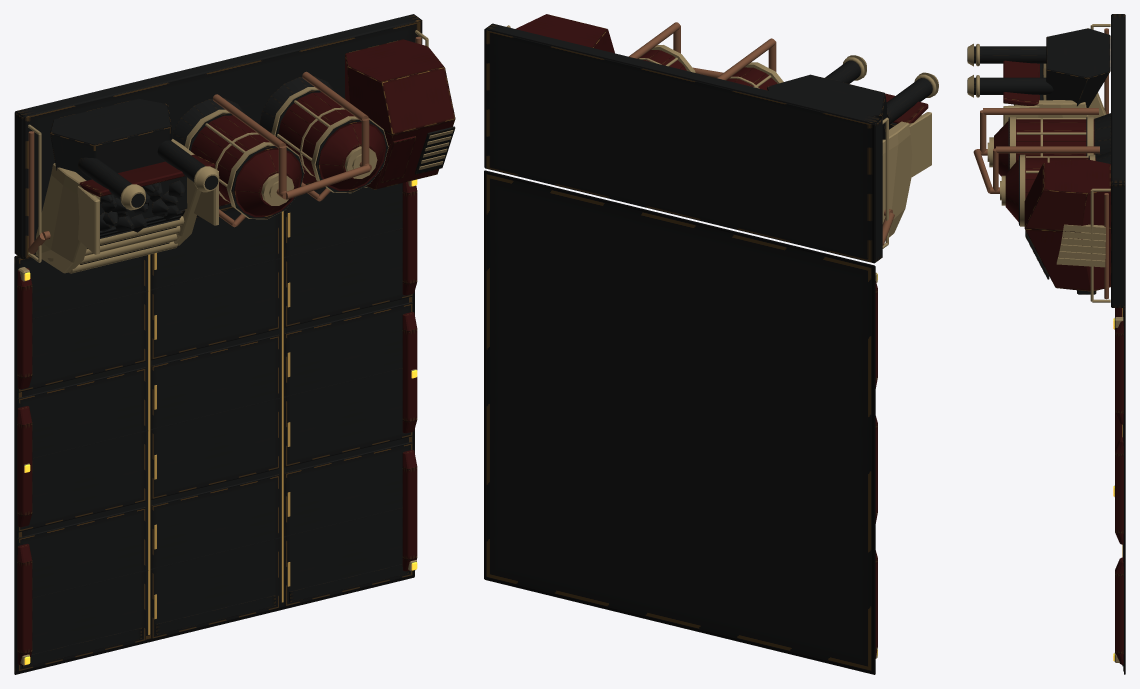
The model's file is refinery-high.glb.
3 views of the same model, side by side, from view 1: azimuth 30°, elevation 25°; view 2: azimuth 150°, elevation 25°; view 3: azimuth 270°, elevation 25° (orthographic). The views are drawn at different scales.
Parts seen in each view (by area): view 1: refinery-root / Riveted iron, refinery-root / Burgundy enamel, refinery-root / Machined brass, refinery-root / Copper feed lines, refinery-root / Ore gold / optics; view 2: refinery-root / Riveted iron, refinery-root / Machined brass, refinery-root / Burgundy enamel, refinery-root / Copper feed lines; view 3: refinery-root / Burgundy enamel, refinery-root / Riveted iron, refinery-root / Machined brass, refinery-root / Copper feed lines.
Boxes of the visible parts, x1,y1,x2,y2 form: refinery-root / Riveted iron: (14, 14, 455, 674); refinery-root / Burgundy enamel: (17, 39, 455, 665); refinery-root / Machined brass: (18, 30, 453, 665); refinery-root / Copper feed lines: (28, 36, 421, 254); refinery-root / Ore gold / optics: (148, 211, 290, 634); refinery-root / Riveted iron: (484, 23, 932, 674); refinery-root / Machined brass: (506, 25, 938, 658); refinery-root / Burgundy enamel: (516, 14, 928, 657); refinery-root / Copper feed lines: (629, 22, 894, 245); refinery-root / Burgundy enamel: (994, 60, 1123, 664); refinery-root / Riveted iron: (967, 14, 1125, 674); refinery-root / Machined brass: (967, 24, 1123, 662); refinery-root / Copper feed lines: (973, 28, 1108, 299).
Size of the model in its own units: 12 by 16.15 by 4.72.
7 materials, 2 textured.
